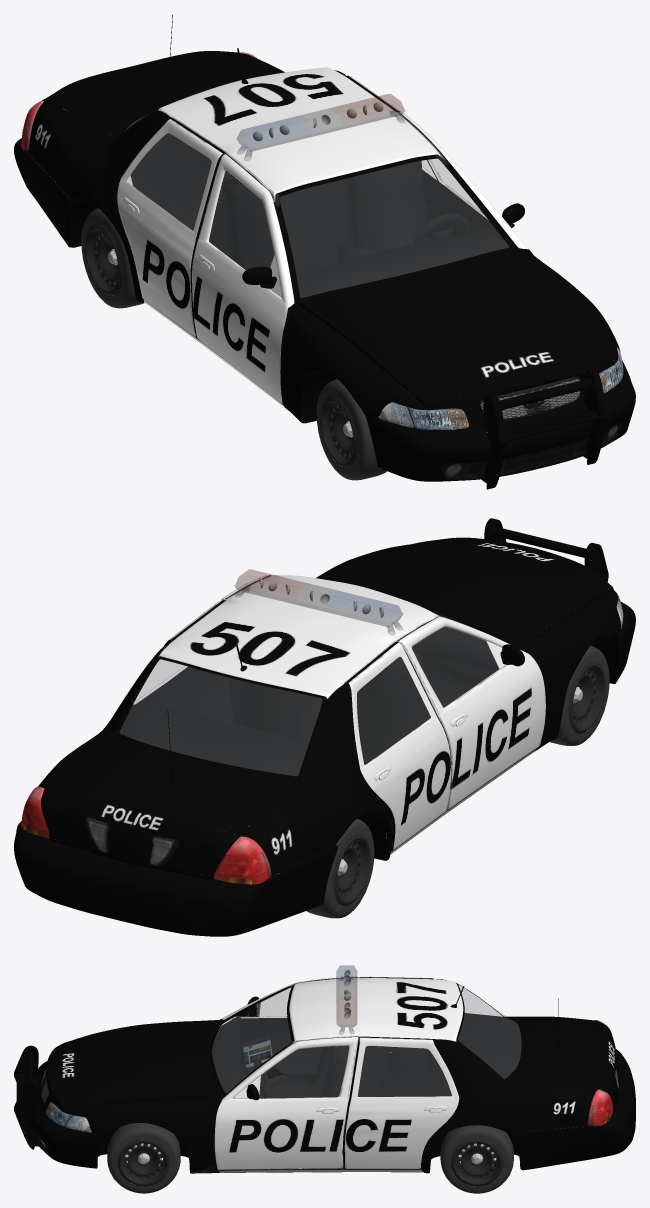
The model's file is police.glb.
The picture shows the model from 3 angles, top to bottom: view 1: azimuth 30°, elevation 25°; view 2: azimuth 150°, elevation 25°; view 3: azimuth 270°, elevation 25°; orthographic projection. The views are drawn at different scales.
Parts seen in each view (by area): view 1: body, wheel_FR, wheel_RR; view 2: body, wheel_RR, wheel_FR; view 3: body, wheel_FL, wheel_RL.
Part boxes in pixels (bbox=[...]): body: bbox=[14, 14, 635, 489]; wheel_FR: bbox=[316, 379, 386, 480]; wheel_RR: bbox=[81, 208, 144, 308]; body: bbox=[14, 518, 635, 936]; wheel_RR: bbox=[306, 818, 374, 918]; wheel_FR: bbox=[550, 645, 609, 745]; body: bbox=[14, 965, 635, 1173]; wheel_FL: bbox=[107, 1123, 180, 1193]; wheel_RL: bbox=[440, 1125, 513, 1193].
Bounding box in the file's own units: 1.99 × 1.59 × 5.39.
Materials: 7 (5 with a texture image).
